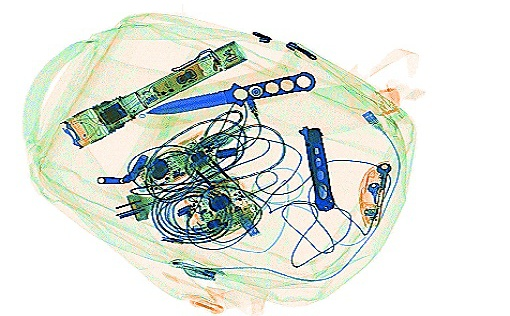knife: (144, 70, 316, 116), (296, 122, 338, 212)
lighter: (222, 175, 258, 219)
